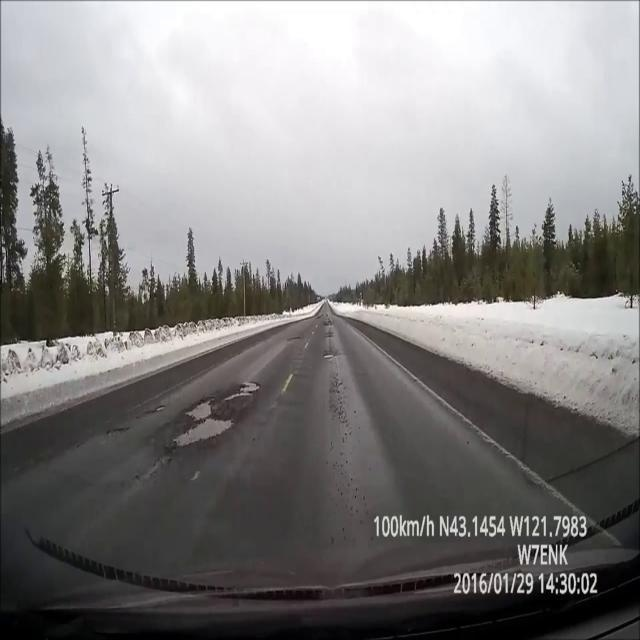pothole: (172, 416, 234, 460), (94, 407, 138, 453), (177, 386, 220, 424), (223, 378, 266, 408), (147, 388, 181, 423), (314, 318, 342, 344), (285, 322, 307, 348), (316, 343, 337, 366)
